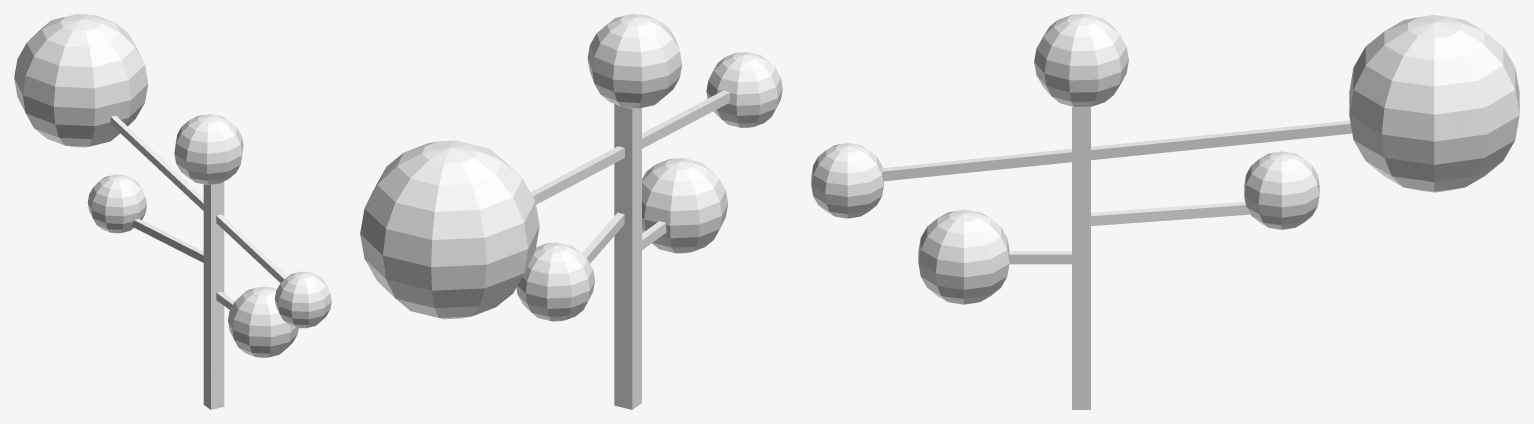
File: wala_fiveball.fbx
3 views of the same model, side by side, from view 1: azimuth 30°, elevation 25°; view 2: azimuth 150°, elevation 25°; view 3: azimuth 270°, elevation 25° (orthographic). The views are drawn at different scales.
Parts seen in each view (by area): view 1: headusOBJexport; view 2: headusOBJexport; view 3: headusOBJexport.
Boxes of the visible parts, <box> form: headusOBJexport: <box>14,14,331,409</box>; headusOBJexport: <box>360,14,782,409</box>; headusOBJexport: <box>811,14,1519,409</box>.
Size of the model in its own units: 8.85 by 20.97 by 35.01.
